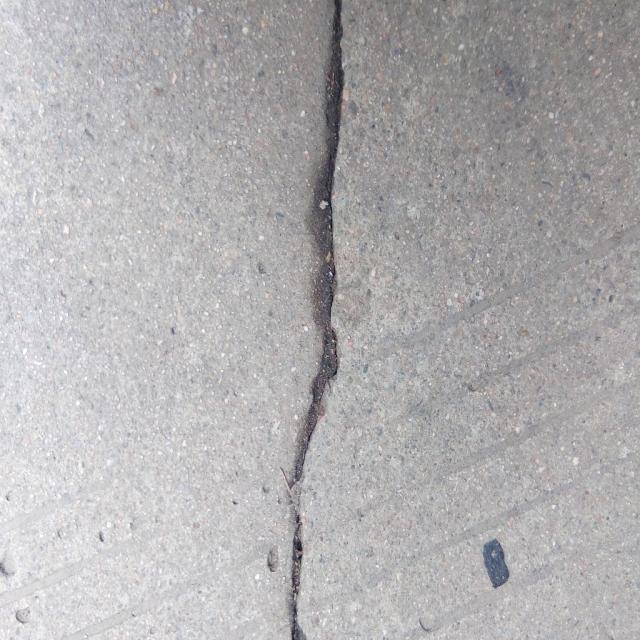cracks: (271, 0, 357, 640)
